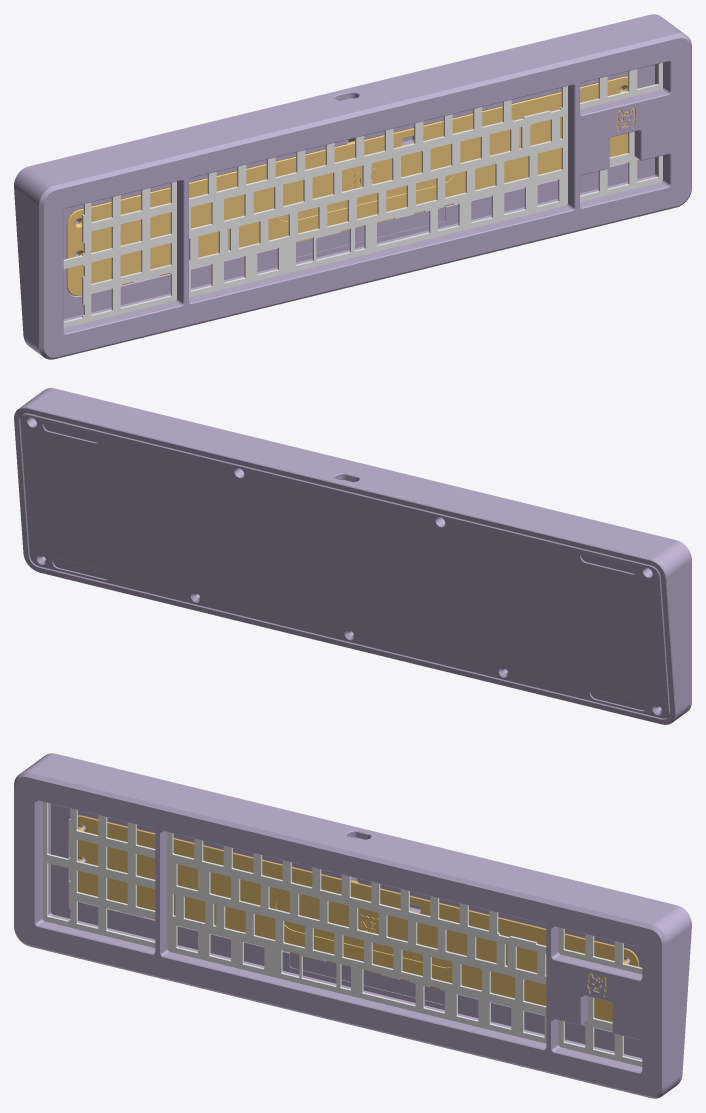
The model's file is llama-keebnewb.fbx.
3 views of the same model, one above another, from view 1: azimuth 30°, elevation 25°; view 2: azimuth 150°, elevation 25°; view 3: azimuth 330°, elevation 25° (orthographic).
Parts seen in each view (by area): view 1: Top, Plate, Weight, Bottom; view 2: Bottom, Top; view 3: Top, Plate, Weight, Bottom.
Part boxes in pixels (x1,y1,x2,y2): Top: (14,14,691,359); Plate: (63,63,662,327); Weight: (66,76,627,295); Bottom: (63,64,657,321); Bottom: (20,413,669,718); Top: (14,388,691,724); Top: (14,753,691,1098); Plate: (43,802,642,1066); Weight: (70,815,639,1022); Bottom: (48,803,642,1060).
Bounding box in the file's own units: 421 × 107 × 31.71.
